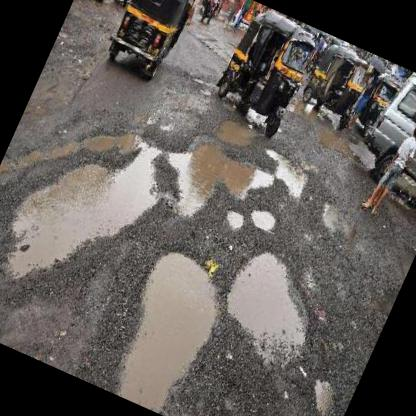pothole: (0, 89, 182, 318), (96, 238, 235, 416), (207, 238, 334, 372), (146, 123, 284, 245), (252, 142, 316, 200), (210, 112, 260, 154), (302, 370, 345, 416), (246, 201, 282, 234), (220, 205, 248, 230)
